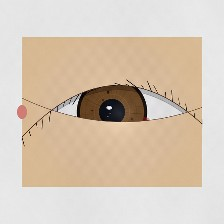hemorrhage_spot: (96, 99, 161, 151)
